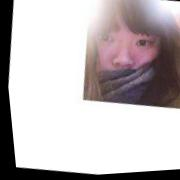WRONG: (79, 9, 170, 104)
